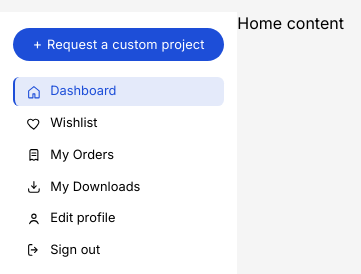
it: DashboardLayout › navigates to contact enquiry from the sidebar CTA
What coordinates should you click on to do the following:
click the link "+ Request a custom project"
I would click on:
 (119, 44)
Its box is [13,28,224,61].
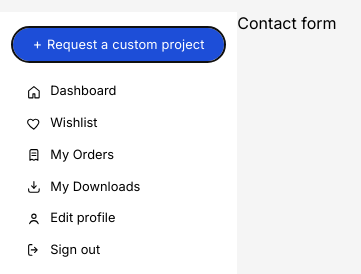
Expected: the text "Contact form" is shown, [237,13,337,33]
